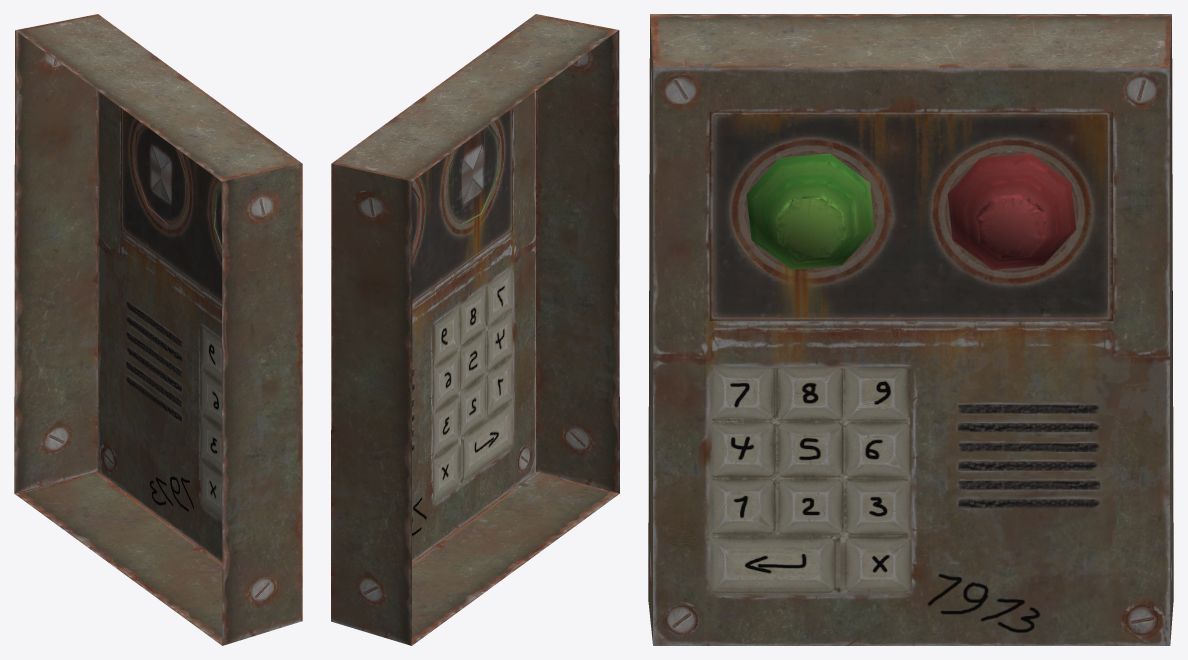
The model's file is кодовый замок.fbx.
The picture shows the model from 3 angles, left to right: view 1: azimuth 30°, elevation 25°; view 2: azimuth 150°, elevation 25°; view 3: azimuth 270°, elevation 25°; orthographic projection. The views are drawn at different scales.
Parts seen in each view (by area): view 1: keypad_0.001; view 2: keypad_0.001; view 3: keypad_0.001.
Boxes of the visible parts, box(x1,y1,x2,y2) form: keypad_0.001: box(14, 14, 302, 645); keypad_0.001: box(331, 14, 619, 645); keypad_0.001: box(648, 14, 1173, 645).
Size of the model in its own units: 692 by 2814 by 2288.
1 material, 1 textured.
